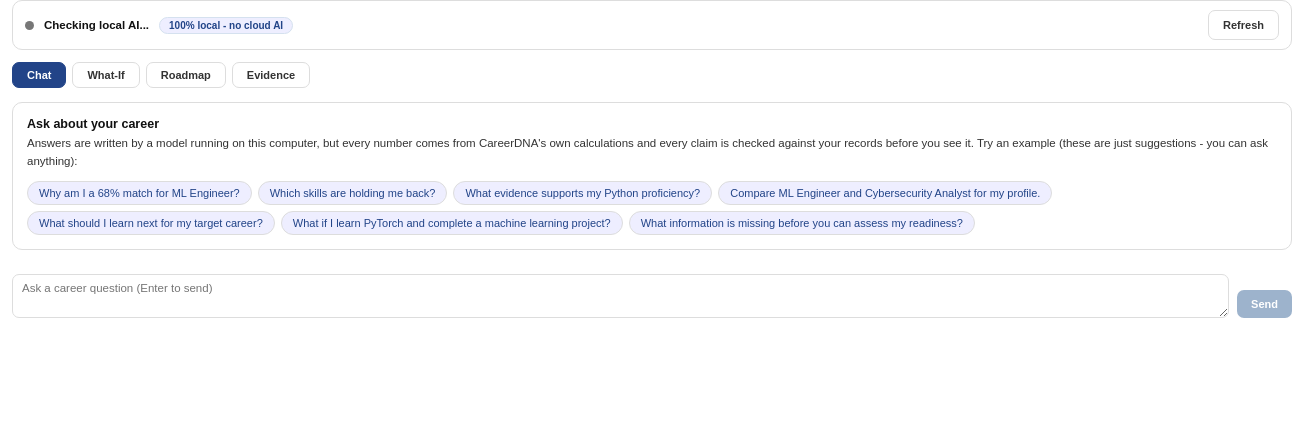
Test: evidence and roadmap › renders evidence statuses and the 'no record is not inability' wording
Click the button "Evidence". click: (271, 75)
box: left=232, top=62, right=310, bottom=88
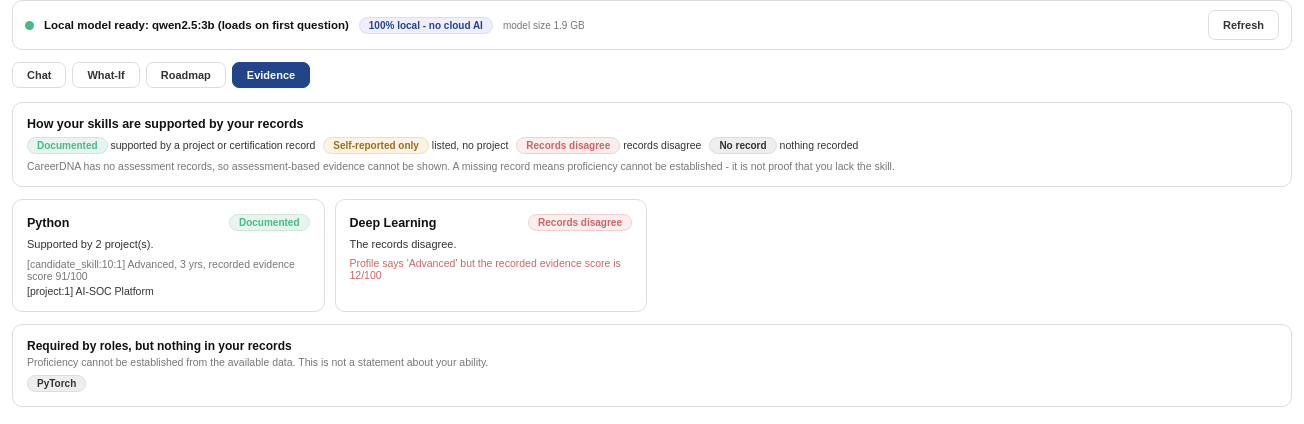
Now the text "AI-SOC Platform" is shown, box left=76, top=284, right=154, bottom=296
Now the text "Records disagree" next to "listed, no project" is shown, box left=526, top=140, right=610, bottom=151
Now the text "not a statement about your ability" is shown, box left=27, top=356, right=488, bottom=368
